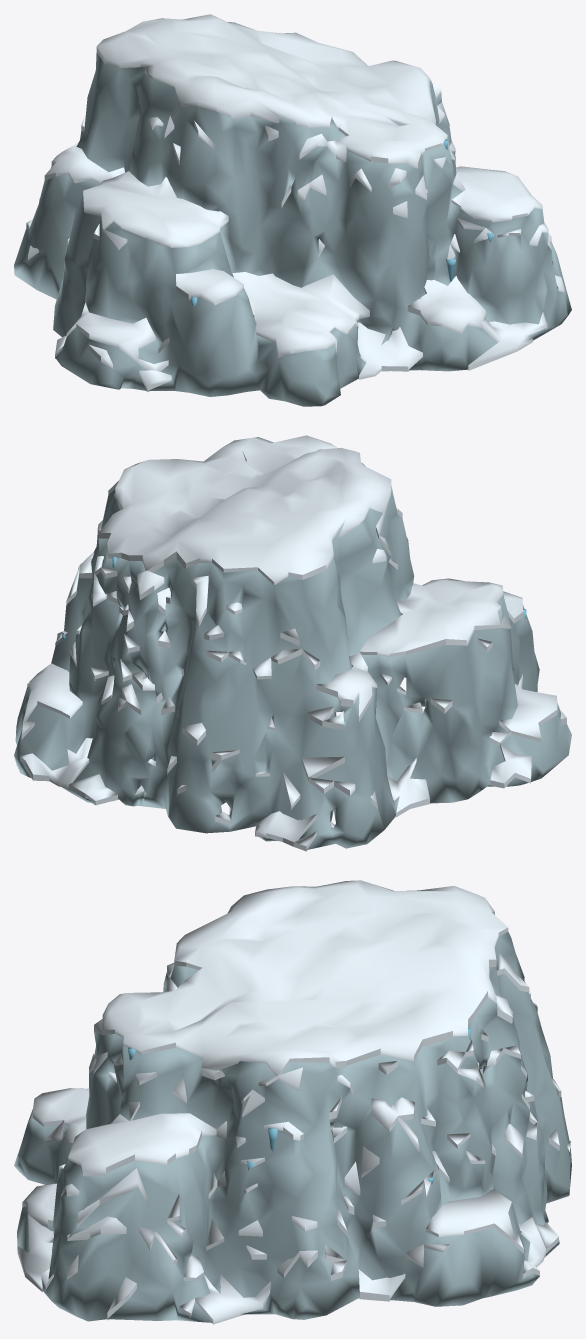
File: FirstRoom_SnowBoulder.fbx
3 views of the same model, one above another, from view 1: azimuth 30°, elevation 25°; view 2: azimuth 150°, elevation 25°; view 3: azimuth 270°, elevation 25° (orthographic). The views are drawn at different scales.
Parts seen in each view (by area): view 1: FirstRoom_SnowBoulder_LOD0; view 2: FirstRoom_SnowBoulder_LOD0; view 3: FirstRoom_SnowBoulder_LOD0.
Boxes of the visible parts, x1,y1,x2,y2 form: FirstRoom_SnowBoulder_LOD0: [14, 14, 571, 406]; FirstRoom_SnowBoulder_LOD0: [14, 435, 571, 851]; FirstRoom_SnowBoulder_LOD0: [14, 880, 571, 1324].
Size of what is drawn, in the model's own units: 6 by 3.3 by 5.68.
